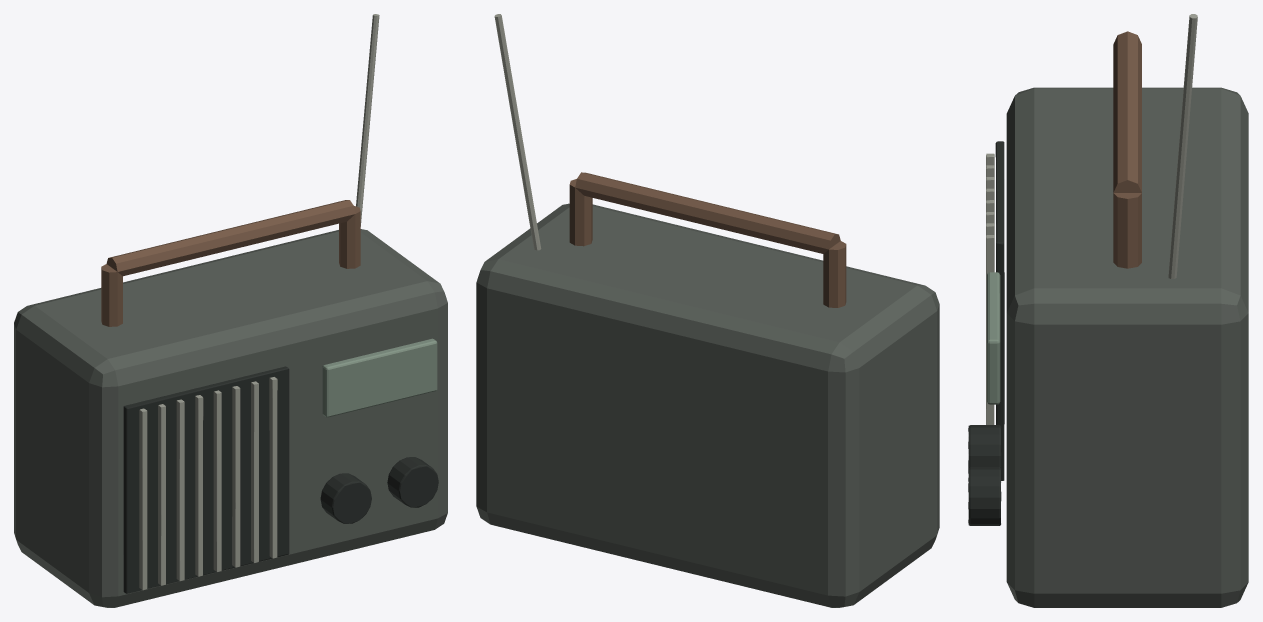
Rendered from radio_low.glb.
3 renders of one model, left to right at view 1: azimuth 30°, elevation 25°; view 2: azimuth 150°, elevation 25°; view 3: azimuth 270°, elevation 25°, orthographic. The views are drawn at different scales.
Visible parts, largest first — view 1: radio.001; view 2: radio.001; view 3: radio.001.
Part boxes in pixels (left/top/right/bottom): radio.001: left=14, top=14, right=447, bottom=607; radio.001: left=476, top=14, right=939, bottom=607; radio.001: left=968, top=14, right=1248, bottom=607.
Bounding box in the file's own units: 0.48 × 0.6006 × 0.255.
